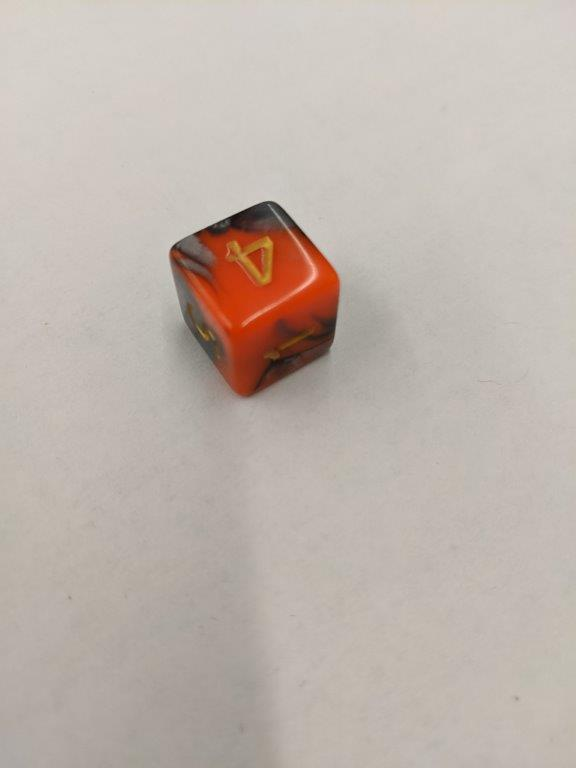d6-4: (167, 199, 340, 402)
